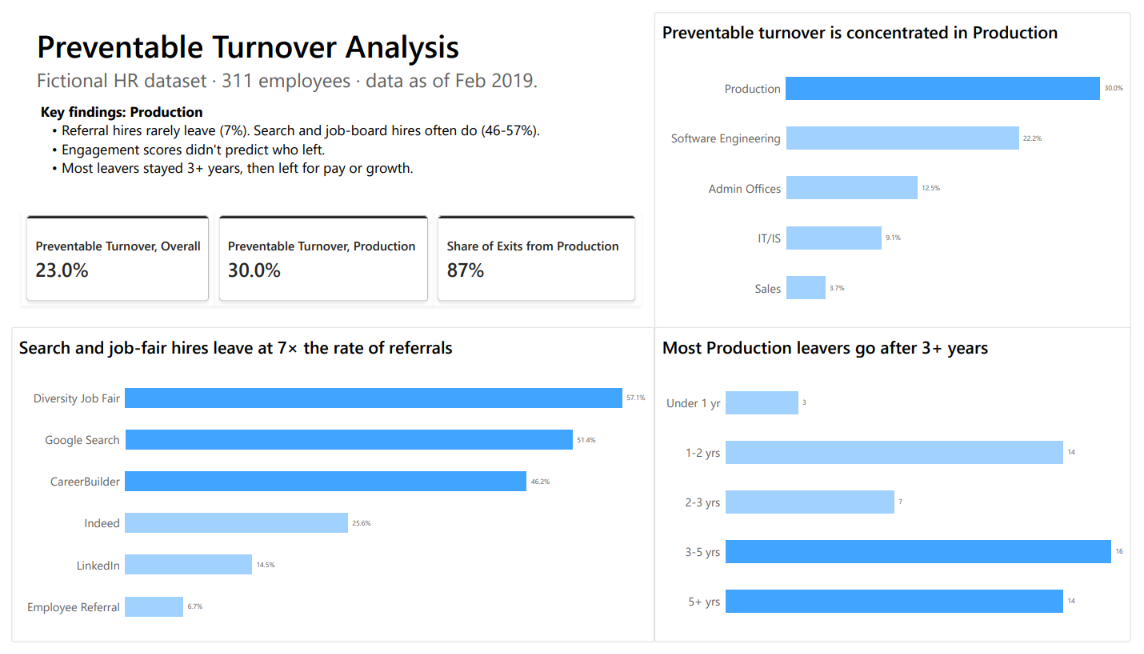

Layout of this report page (visuals, bound fields, positions):
{"tool":"powerbi","page":{"name":"Page 1","canvas":[1920,1080],"ordinal":0},"visuals":[{"type":"cardVisual","fields":{"Data":["hr_turnover_for_powerbi.Preventable Turnover Rate"]},"box":[16.7,340,330,163.3],"z":0},{"type":"cardVisual","fields":{"Data":["hr_turnover_for_powerbi.Preventable Turnover Rate"]},"box":[346.7,340,376.7,163.3],"z":1000},{"type":"cardVisual","fields":{"Data":["hr_turnover_for_powerbi.Production Share of Exits"]},"box":[723.3,340,356.7,163.3],"z":2000},{"type":"clusteredBarChart","title":"Preventable turnover is concentrated in Production","fields":{"Category":["hr_turnover_for_powerbi.Department"],"Y":["hr_turnover_for_powerbi.Preventable Turnover Rate"]},"box":[1103.3,0,816.7,543.3],"z":3000},{"type":"clusteredBarChart","title":"Search and job-fair hires leave at 7× the rate of referrals","fields":{"Category":["hr_turnover_for_powerbi.RecruitmentSource"],"Y":["hr_turnover_for_powerbi.Preventable Turnover Rate"]},"box":[0,540,1103.3,540],"z":4000},{"type":"clusteredBarChart","title":"Most Production leavers go after 3+ years","fields":{"Category":["hr_turnover_for_powerbi.TenureBand"],"Y":["hr_turnover_for_powerbi.Preventable Exits"]},"box":[1103.3,540,816.7,540],"z":5000},{"type":"textbox","box":[50,153.3,876.7,176.7],"z":6000},{"type":"textbox","title":"Preventable Turnover Analysis","box":[43.3,20,883.3,116.7],"z":7000}]}

Visuals, with their boxes in screenshot pixels (x1, y1, x2, y2), scaled from the page's 1920x1080 canvas onto the 1144x654 screenshot:
cardVisual - hr_turnover_for_powerbi.Preventable Turnover Rate: 10,206,207,305
cardVisual - hr_turnover_for_powerbi.Preventable Turnover Rate: 207,206,431,305
cardVisual - hr_turnover_for_powerbi.Production Share of Exits: 431,206,644,305
"Preventable turnover is concentrated in Production" clusteredBarChart: 657,0,1143,329
"Search and job-fair hires leave at 7× the rate of referrals" clusteredBarChart: 0,327,657,653
"Most Production leavers go after 3+ years" clusteredBarChart: 657,327,1143,653
textbox: 30,93,552,200
"Preventable Turnover Analysis" textbox: 26,12,552,83
